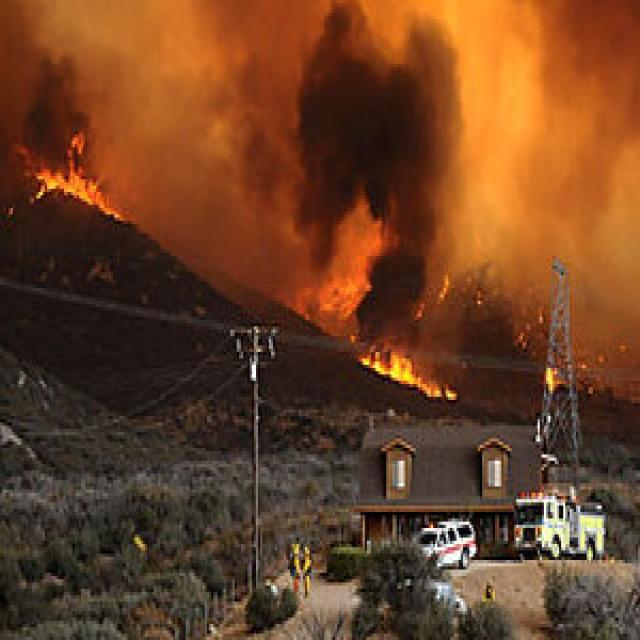Smoke: (196, 0, 464, 365), (484, 0, 640, 369), (0, 0, 100, 201)
